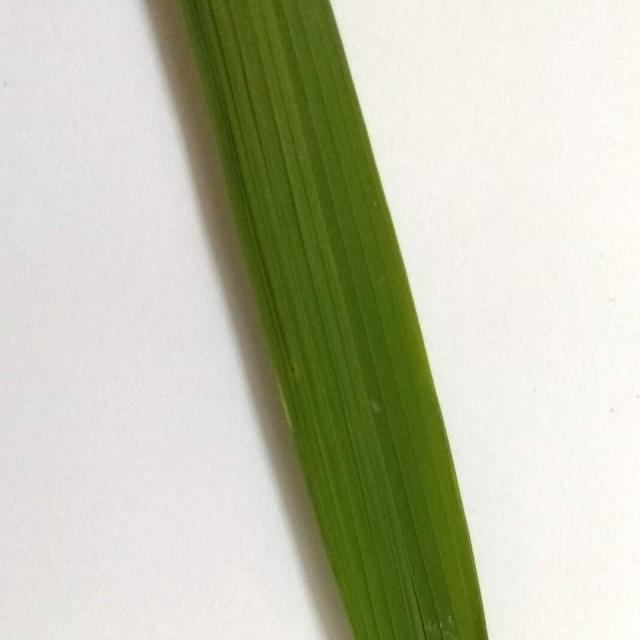healthy: (160, 1, 492, 640)
